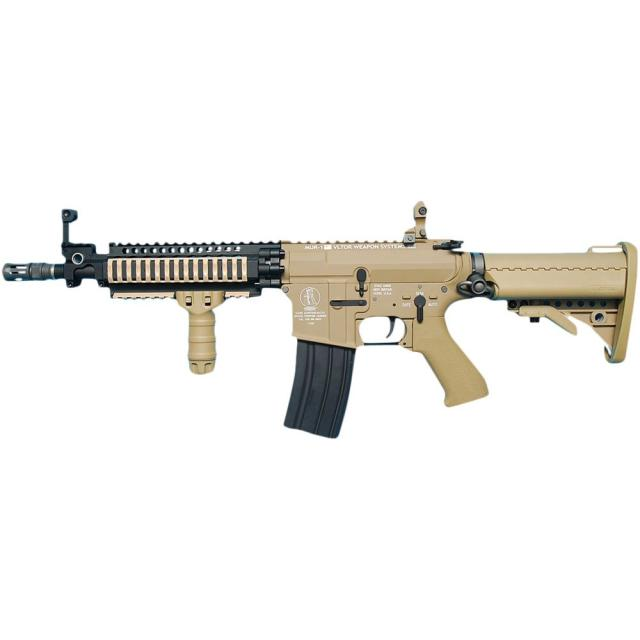Rifle: (1, 204, 640, 440)
